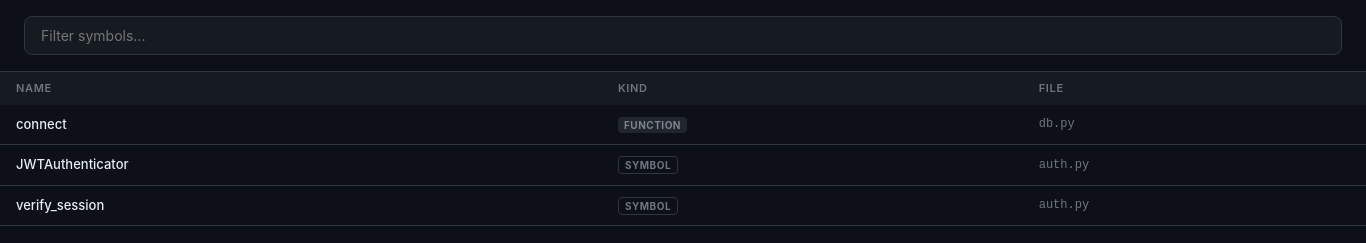
SymbolsTab — symbol shape tolerance + search filter › search input filters rows by typed text on every keystroke
Type "verify" into the field labelled "Filter symbols" at (683,36), box [24,16,1342,55]
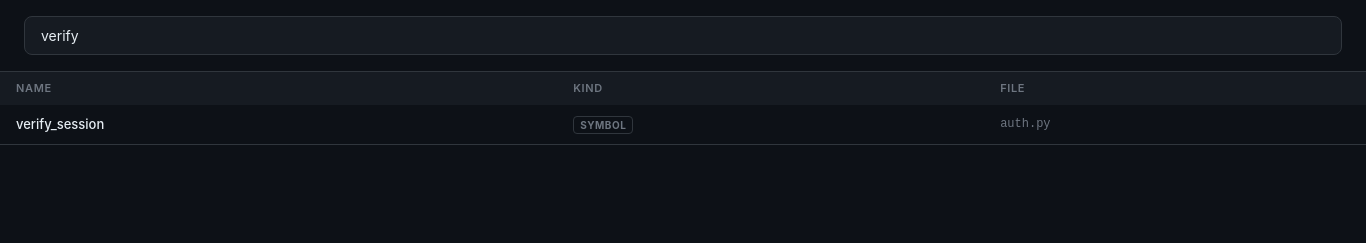
Expected: the text "verify_session" is shown, [0,104,557,144]
Result: the text "JWTAuthenticator" is gone
Result: the text "connect" is gone
